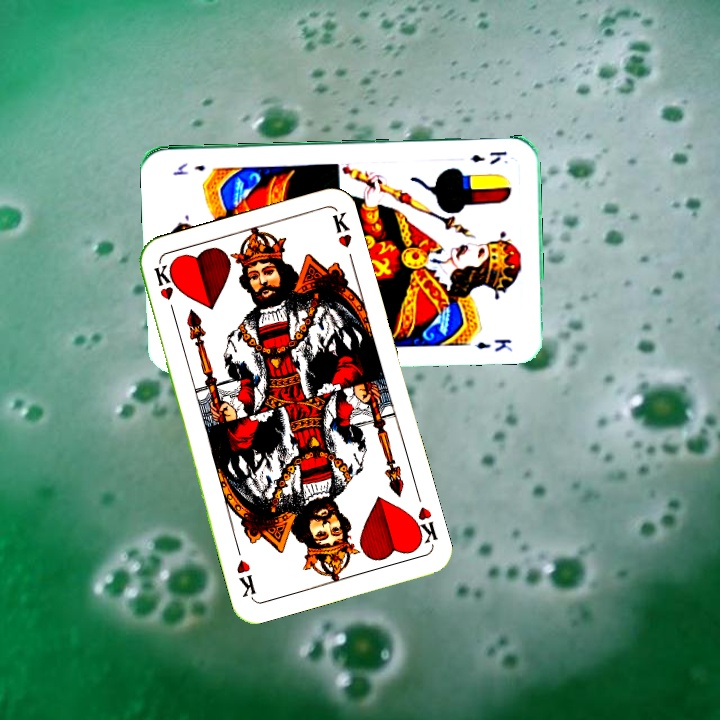EK: (467, 147, 510, 167)
HK: (150, 260, 179, 319), (407, 503, 441, 549)
